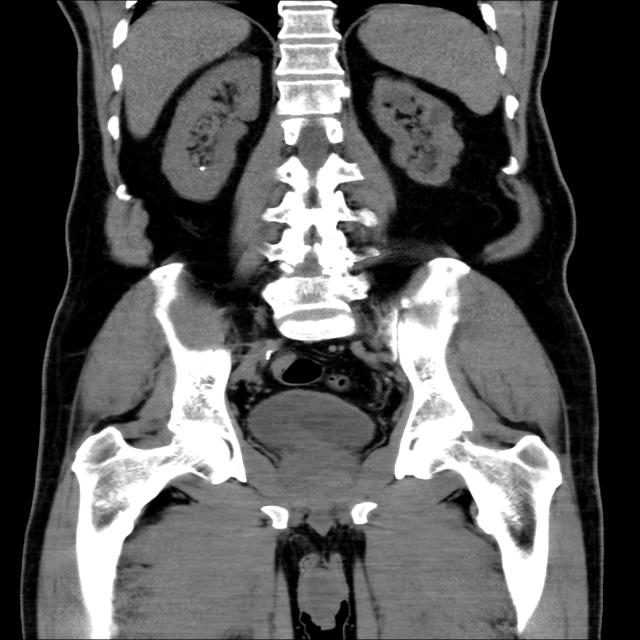kidneystone: (195, 161, 204, 171)
